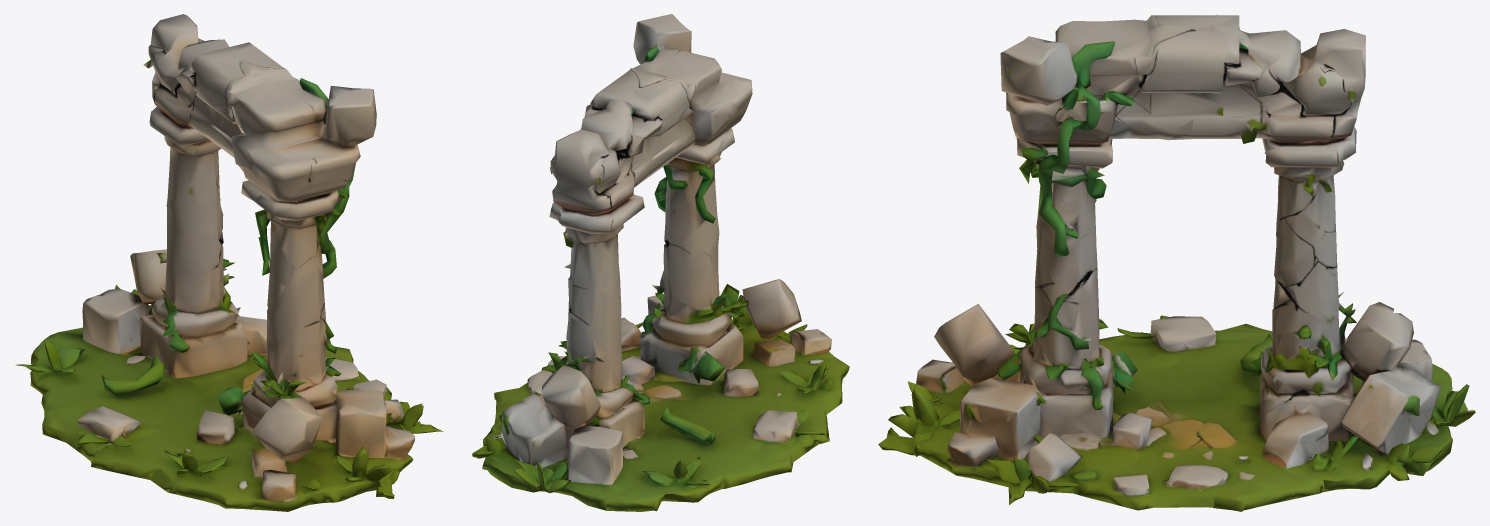
Rendered from biome-ruinas.glb.
The picture shows the model from 3 angles, left to right: view 1: azimuth 30°, elevation 25°; view 2: azimuth 150°, elevation 25°; view 3: azimuth 270°, elevation 25°; orthographic projection. The views are drawn at different scales.
Visible parts, largest first — view 1: tripo_node_ab483f0b-f8b7-40da-99ef-124d22b89ea3; view 2: tripo_node_ab483f0b-f8b7-40da-99ef-124d22b89ea3; view 3: tripo_node_ab483f0b-f8b7-40da-99ef-124d22b89ea3.
Boxes of the visible parts, box(x1,y1,x2,y2) form: tripo_node_ab483f0b-f8b7-40da-99ef-124d22b89ea3: box(15, 14, 443, 511); tripo_node_ab483f0b-f8b7-40da-99ef-124d22b89ea3: box(472, 14, 849, 511); tripo_node_ab483f0b-f8b7-40da-99ef-124d22b89ea3: box(878, 14, 1475, 511).
Bounding box in the file's own units: 0.7128 × 0.7685 × 1.
1 material, 1 textured.
